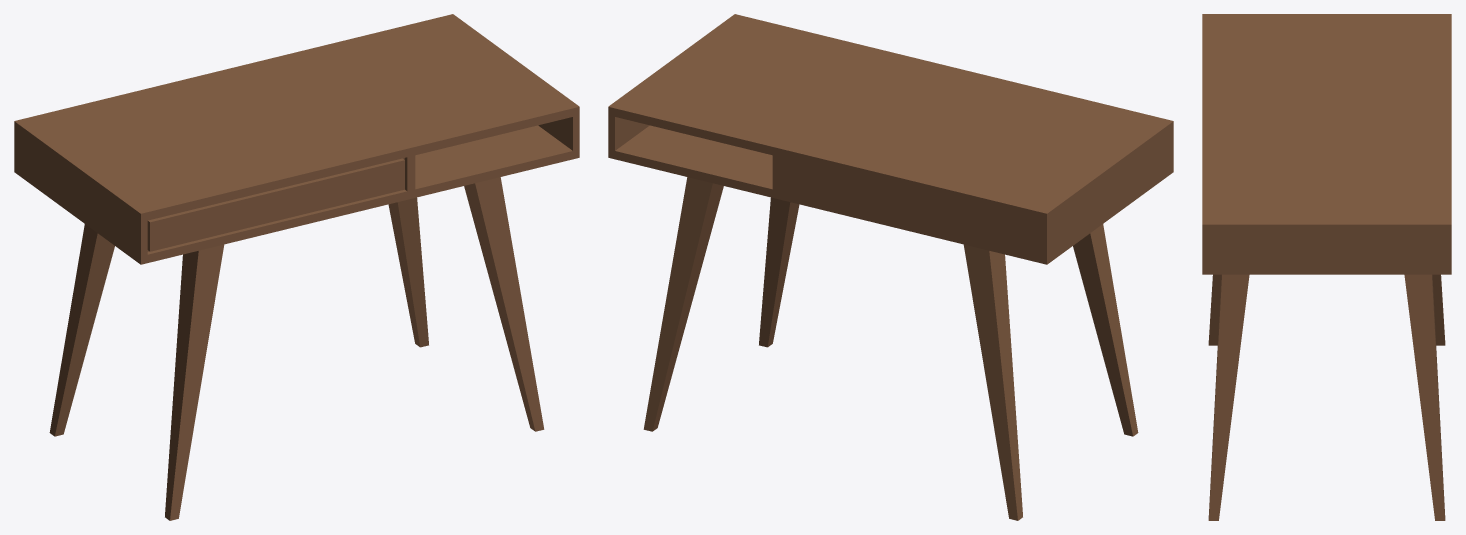
Rendered from OfficeDesk.gltf.
The picture shows the model from 3 angles, left to right: view 1: azimuth 30°, elevation 25°; view 2: azimuth 150°, elevation 25°; view 3: azimuth 270°, elevation 25°; orthographic projection.
Visible parts, largest first — view 1: desk4; view 2: desk4; view 3: desk4.
Boxes of the visible parts, x1,y1,x2,y2 form: desk4: [14, 14, 579, 520]; desk4: [608, 14, 1173, 520]; desk4: [1202, 14, 1451, 520].
Bounding box in the file's own units: 1.1 × 0.76 × 0.55.
